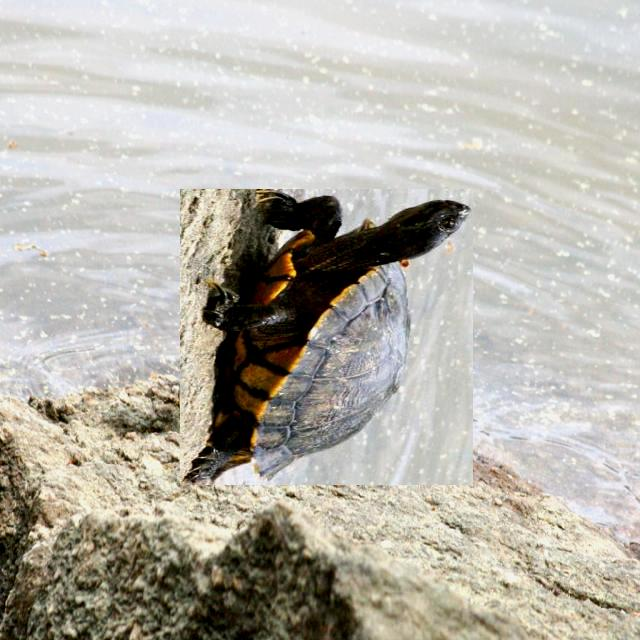Sea turtle: (179, 190, 473, 484)
